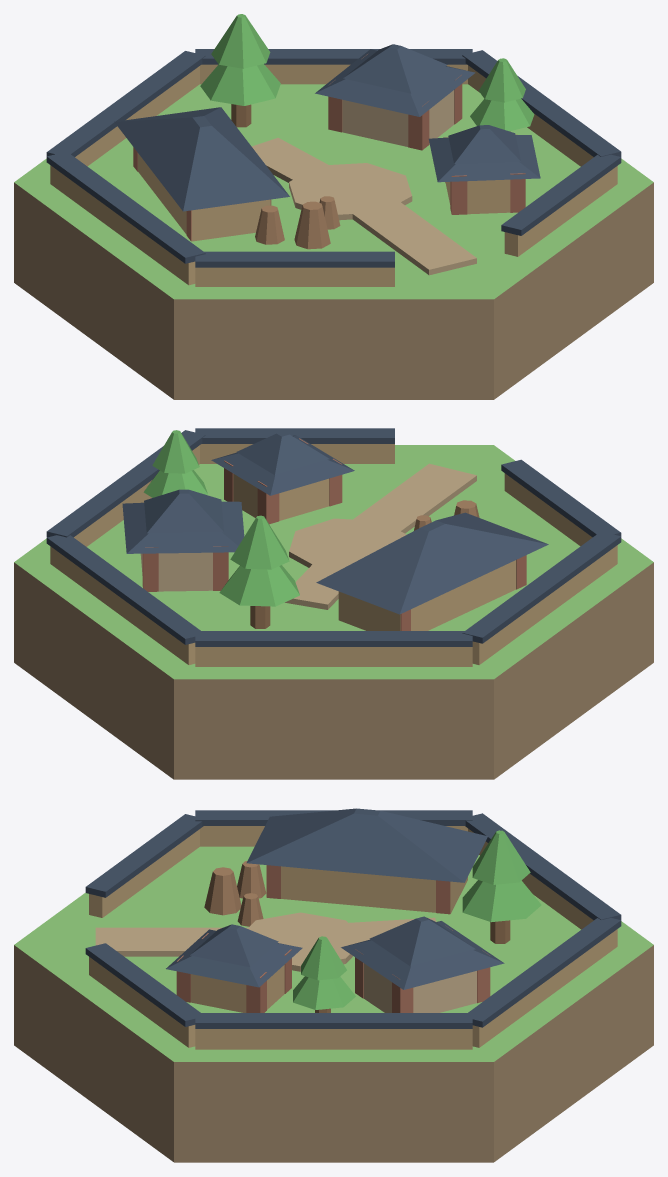
The model's file is village-3.glb.
3 renders of one model, top to bottom at view 1: azimuth 30°, elevation 25°; view 2: azimuth 150°, elevation 25°; view 3: azimuth 270°, elevation 25°, orthographic.
Visible parts, largest first — view 1: base, store_roof, path_s, fence_3_wall, fence_2_cap, house_a_eave, fence_1_cap, path_plaza, fence_3_cap, store_body, house_a_body, house_a_roof (+21 smaller); view 2: base, store_roof, fence_1_wall, path_s, store_body, fence_1_cap, fence_2_cap, house_a_eave, fence_0_cap, house_a_roof, fence_5_cap, fence_2_wall (+19 smaller); view 3: base, store_roof, fence_5_wall, store_body, fence_5_cap, house_a_eave, fence_0_cap, path_s, house_a_body, fence_1_cap, house_a_roof, house_b_eave (+21 smaller).
Part boxes in pixels (bbox=[...]): base: bbox=[14, 84, 653, 399]; store_roof: bbox=[114, 107, 289, 211]; path_s: bbox=[335, 189, 476, 275]; fence_3_wall: bbox=[195, 267, 394, 286]; fence_2_cap: bbox=[46, 151, 205, 263]; house_a_eave: bbox=[315, 49, 475, 116]; fence_1_cap: bbox=[46, 51, 205, 156]; path_plaza: bbox=[289, 163, 412, 220]; fence_3_cap: bbox=[195, 251, 394, 267]; store_body: bbox=[138, 153, 270, 241]; house_a_body: bbox=[342, 90, 454, 146]; house_a_roof: bbox=[343, 44, 447, 93]; base: bbox=[14, 445, 653, 779]; store_roof: bbox=[316, 512, 548, 614]; fence_1_wall: bbox=[195, 647, 472, 666]; path_s: bbox=[335, 463, 476, 543]; store_body: bbox=[338, 560, 516, 630]; fence_1_cap: bbox=[195, 631, 472, 646]; fence_2_cap: bbox=[462, 531, 621, 643]; house_a_eave: bbox=[122, 501, 244, 553]; fence_0_cap: bbox=[46, 535, 200, 644]; house_a_roof: bbox=[144, 489, 223, 533]; fence_5_cap: bbox=[46, 430, 205, 537]; fence_2_wall: bbox=[472, 545, 617, 664]; base: bbox=[14, 846, 653, 1162]; store_roof: bbox=[246, 808, 487, 882]; fence_5_wall: bbox=[195, 1029, 472, 1049]; store_body: bbox=[266, 865, 467, 913]; fence_5_cap: bbox=[195, 1013, 472, 1028]; house_a_eave: bbox=[341, 921, 504, 989]; fence_0_cap: bbox=[468, 918, 621, 1027]; path_s: bbox=[95, 927, 283, 956]; house_a_body: bbox=[363, 963, 476, 1012]; fence_1_cap: bbox=[465, 813, 621, 920]; house_a_roof: bbox=[369, 916, 475, 966]; house_b_eave: bbox=[166, 929, 302, 987].
Bounding box in the file's own units: 1 × 0.415 × 1.15.
